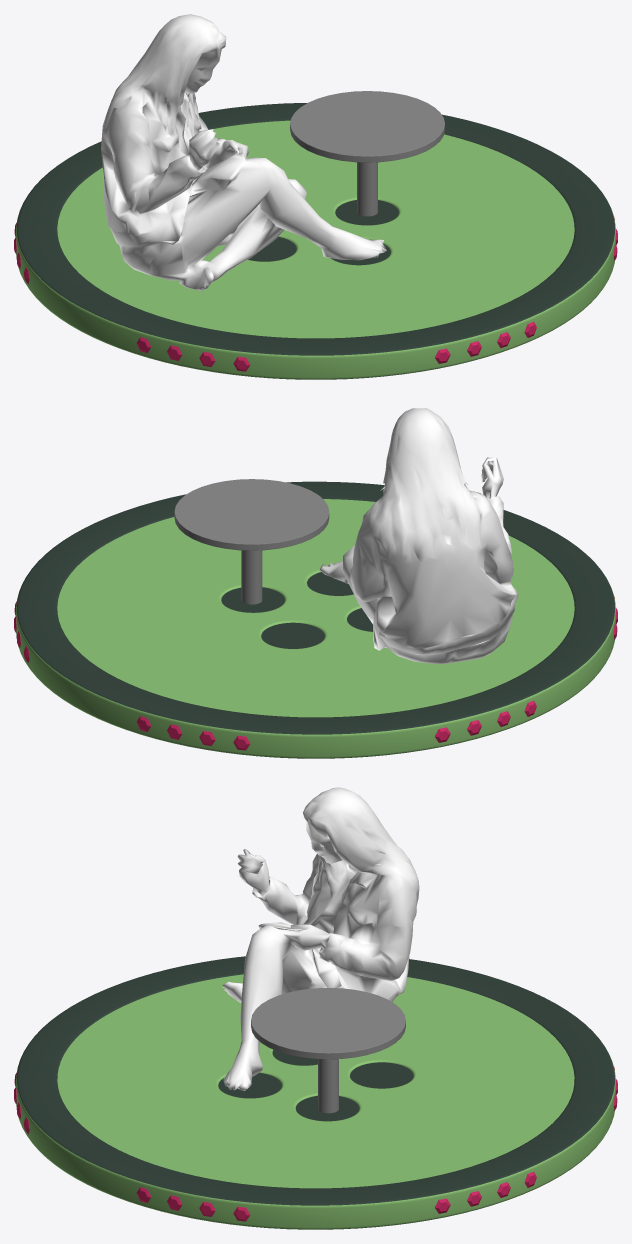
3 views of the same model, one above another, from view 1: azimuth 30°, elevation 25°; view 2: azimuth 150°, elevation 25°; view 3: azimuth 270°, elevation 25° (orthographic).
Parts seen in each view (by area): view 1: Rim_005, center_005, Circle027, shelter_gem_013, Line019; view 2: Rim_005, center_005, Circle027, shelter_gem_013, Line019; view 3: center_005, Rim_005, Circle027, shelter_gem_013, Line019.
Part boxes in pixels (x1,y1,x2,y2): Rim_005: [16, 14, 615, 379]; center_005: [57, 120, 574, 338]; Circle027: [290, 91, 444, 162]; shelter_gem_013: [14, 218, 617, 371]; Line019: [357, 162, 377, 216]; Rim_005: [16, 408, 615, 758]; center_005: [57, 499, 574, 717]; Circle027: [174, 479, 329, 550]; shelter_gem_013: [14, 597, 617, 750]; Line019: [241, 550, 262, 604]; center_005: [57, 974, 574, 1188]; Rim_005: [16, 787, 615, 1229]; Circle027: [251, 988, 405, 1059]; shelter_gem_013: [14, 1067, 617, 1221]; Line019: [318, 1059, 338, 1113].
Bounding box in the file's own units: 1.7 × 1 × 1.71.
